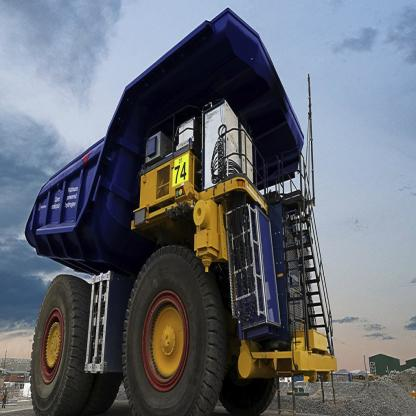dump_truck: (23, 13, 343, 415)
